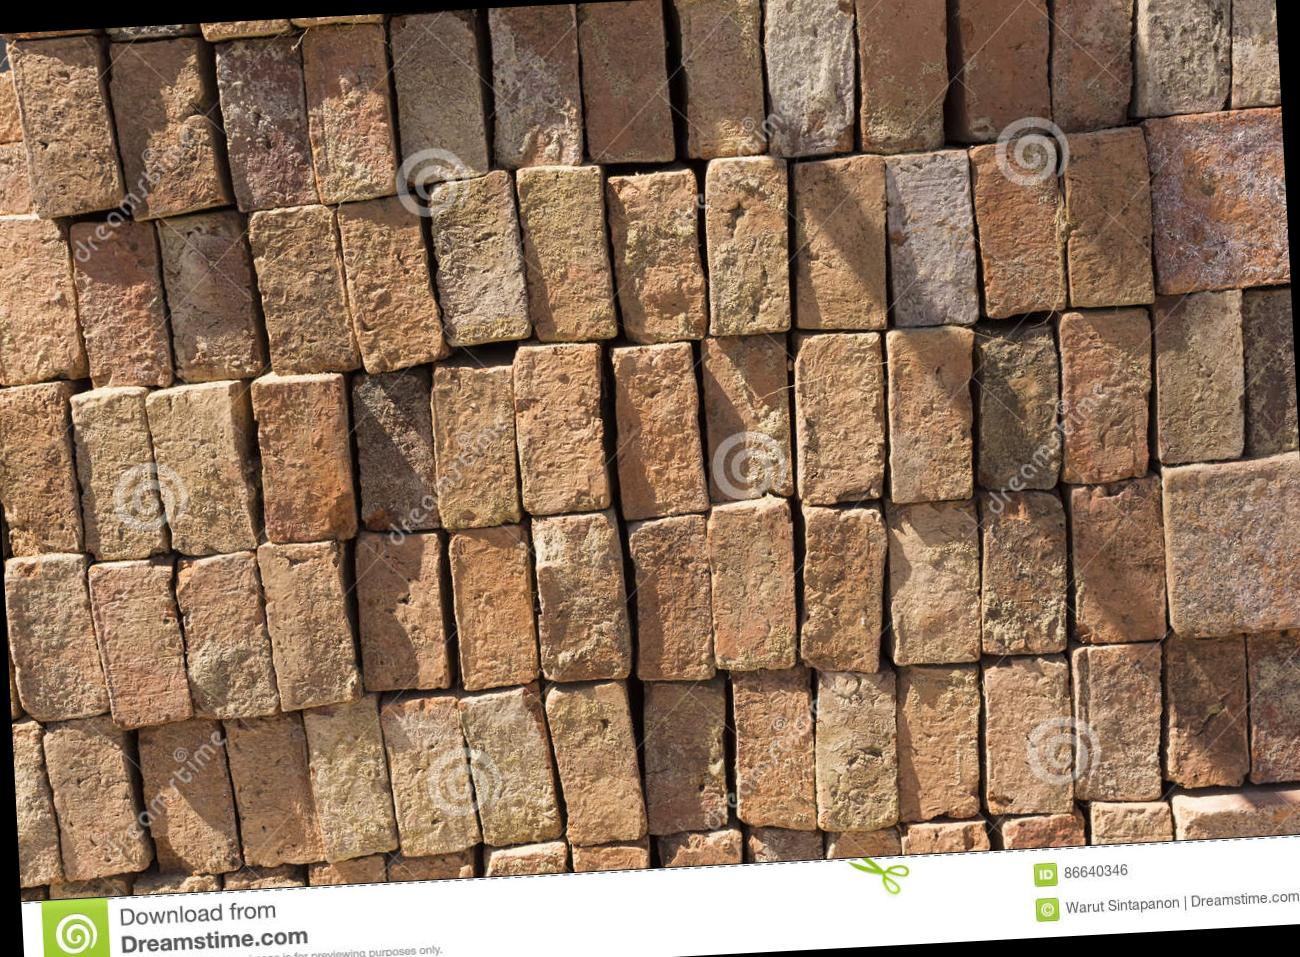brick: (1143, 106, 1291, 294), (1161, 450, 1300, 634), (6, 34, 125, 223), (108, 36, 228, 220), (248, 202, 359, 378), (338, 194, 446, 374), (145, 384, 258, 555), (156, 212, 266, 382), (430, 170, 533, 347), (517, 163, 618, 342), (217, 34, 318, 213), (4, 552, 110, 722), (608, 168, 709, 344), (175, 549, 280, 719), (794, 499, 894, 676), (790, 155, 890, 332), (251, 376, 357, 542), (1059, 309, 1159, 485), (88, 561, 192, 730), (257, 538, 357, 713), (302, 21, 398, 203), (885, 324, 983, 502), (970, 137, 1066, 318), (612, 341, 709, 520), (544, 680, 649, 845), (1149, 289, 1249, 461), (70, 219, 171, 390), (44, 715, 147, 881), (884, 148, 979, 328), (513, 343, 613, 514), (378, 695, 482, 858), (457, 686, 563, 846), (1062, 128, 1156, 308), (707, 494, 801, 671), (391, 10, 488, 184), (701, 155, 794, 336), (790, 331, 887, 502), (534, 512, 631, 682), (1068, 642, 1170, 803), (72, 391, 168, 561), (138, 718, 241, 876), (1071, 475, 1168, 642), (885, 502, 983, 666), (975, 491, 1071, 656), (304, 695, 397, 863), (488, 3, 582, 168), (762, 0, 862, 155), (579, 0, 674, 164), (430, 362, 522, 531), (811, 667, 904, 833), (224, 715, 323, 869), (981, 656, 1077, 815), (0, 211, 87, 386), (854, 0, 953, 152), (702, 335, 793, 501), (973, 325, 1064, 491), (355, 532, 448, 693), (731, 665, 820, 833), (449, 527, 539, 689), (629, 514, 716, 681), (674, 0, 765, 158), (640, 678, 731, 834), (895, 663, 984, 821), (957, 0, 1056, 141), (0, 381, 80, 553), (351, 373, 438, 531), (1164, 634, 1251, 789), (1129, 0, 1236, 117), (1048, 0, 1142, 130), (1240, 287, 1300, 452), (1244, 629, 1300, 783), (1224, 0, 1281, 105)
